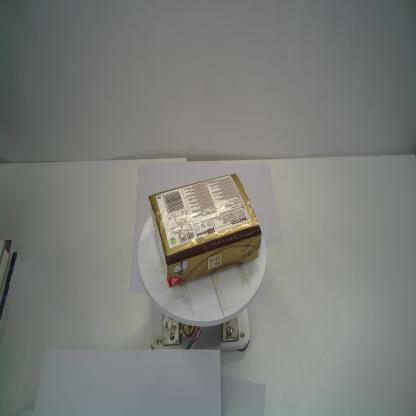Tissue: (148, 173, 262, 288)
